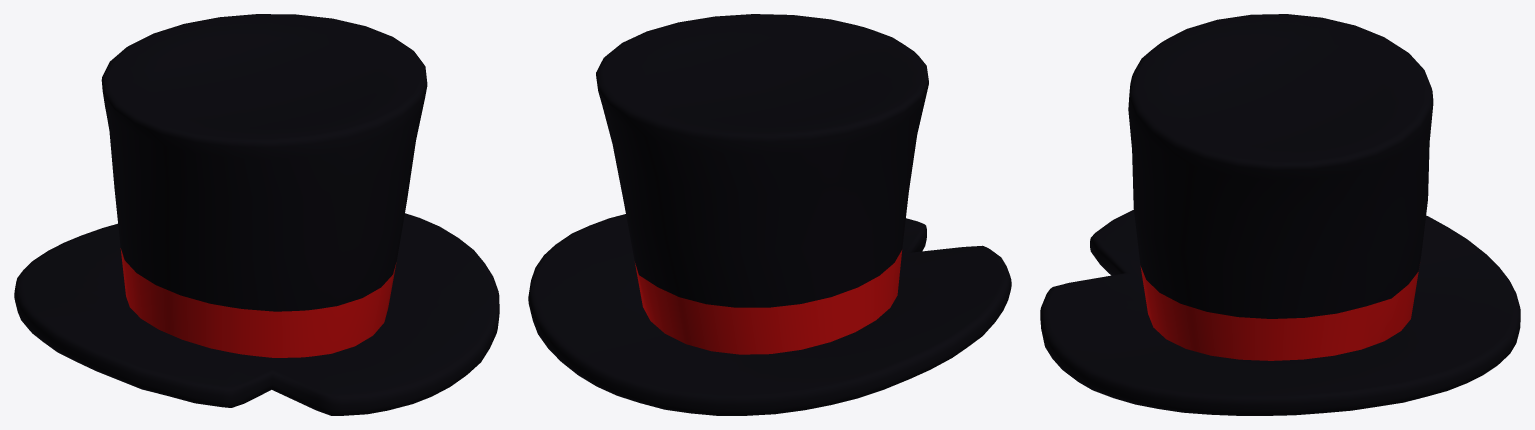
File: MagicianHat.fbx
3 renders of one model, left to right at view 1: azimuth 30°, elevation 25°; view 2: azimuth 150°, elevation 25°; view 3: azimuth 270°, elevation 25°, orthographic.
Parts seen in each view (by area): view 1: MagicianHat; view 2: MagicianHat; view 3: MagicianHat.
Part boxes in pixels (x1,y1,x2,y2): MagicianHat: [14, 14, 499, 415]; MagicianHat: [528, 14, 1011, 415]; MagicianHat: [1040, 14, 1520, 415].
Size of the model in its own units: 43.92 by 25.52 by 43.98.
